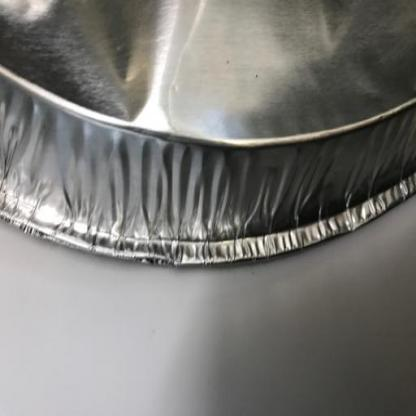Metal: (0, 1, 416, 266)
